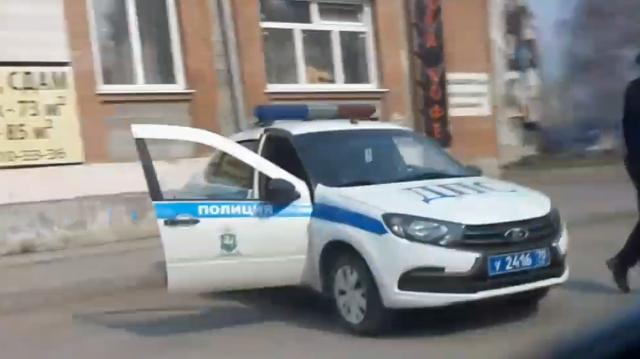police car: (159, 103, 566, 328)
